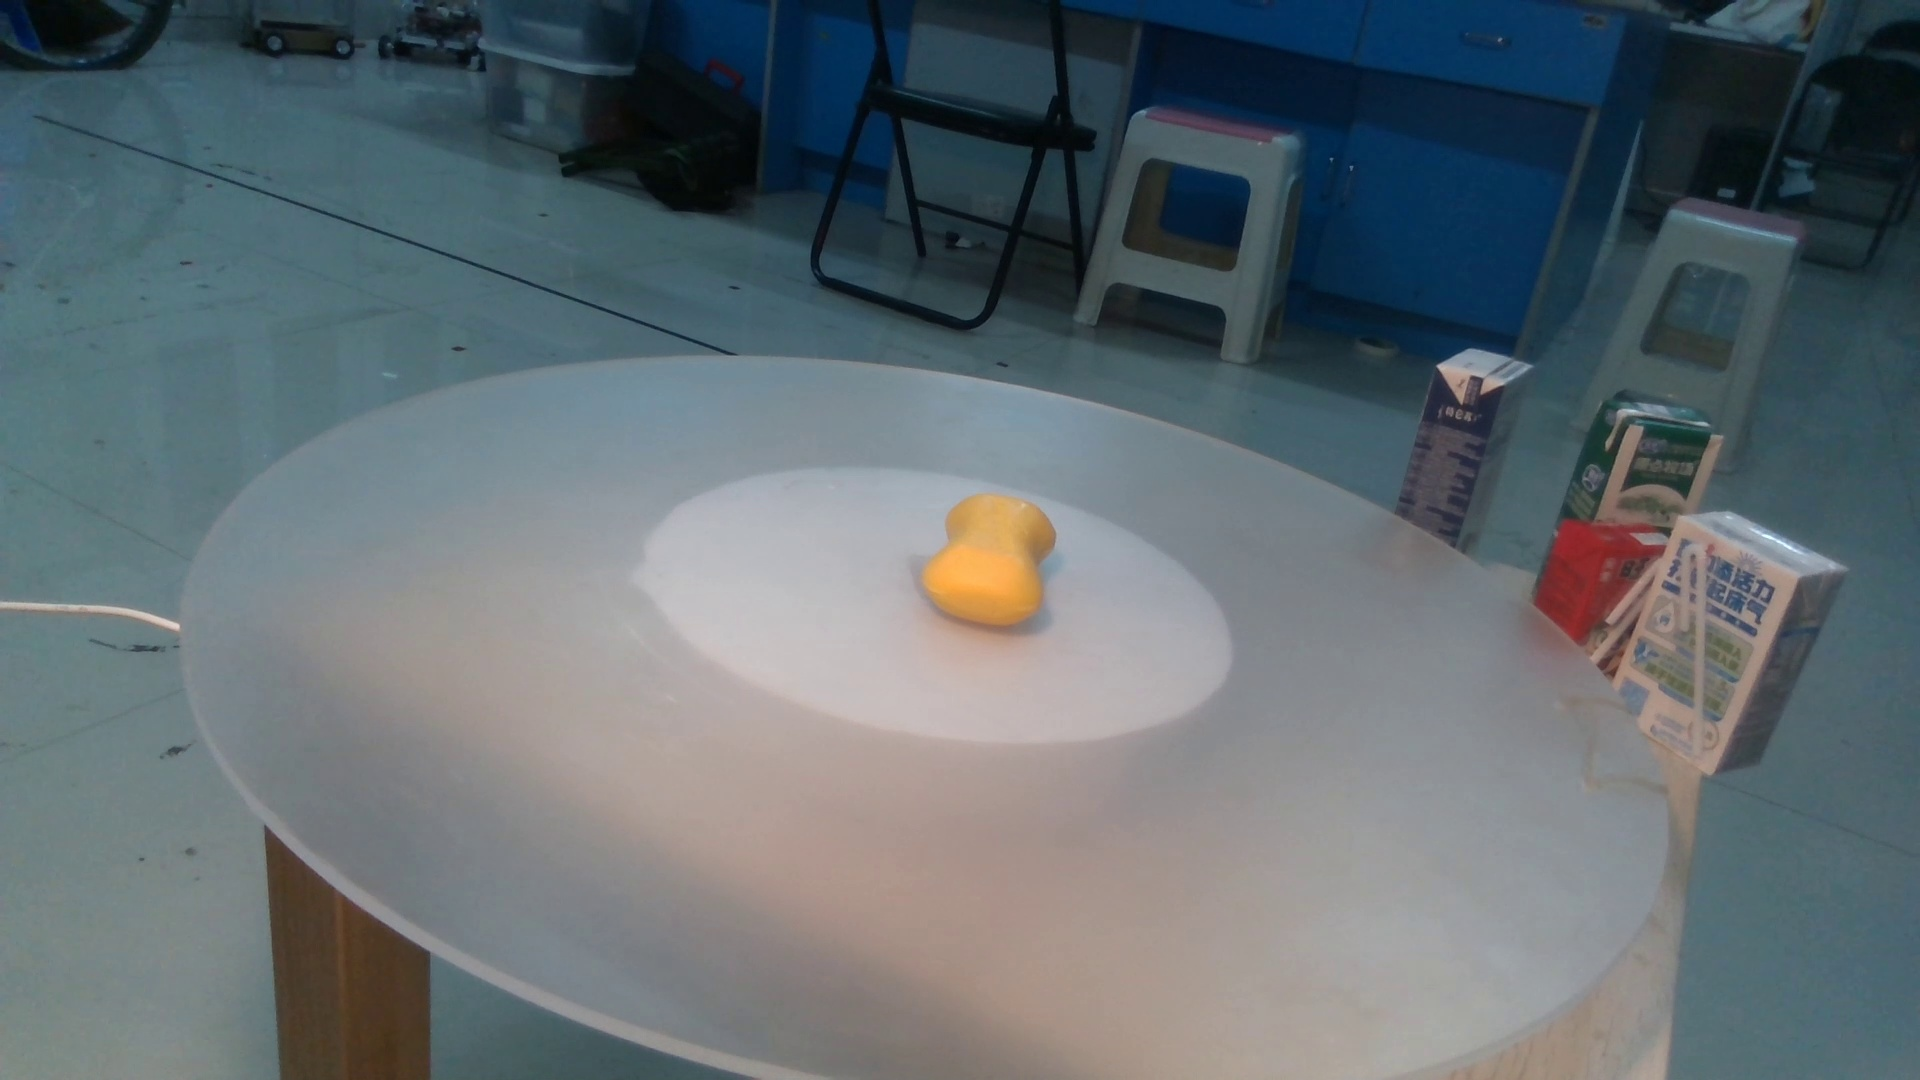CA003_1: (891, 488, 1127, 634)
